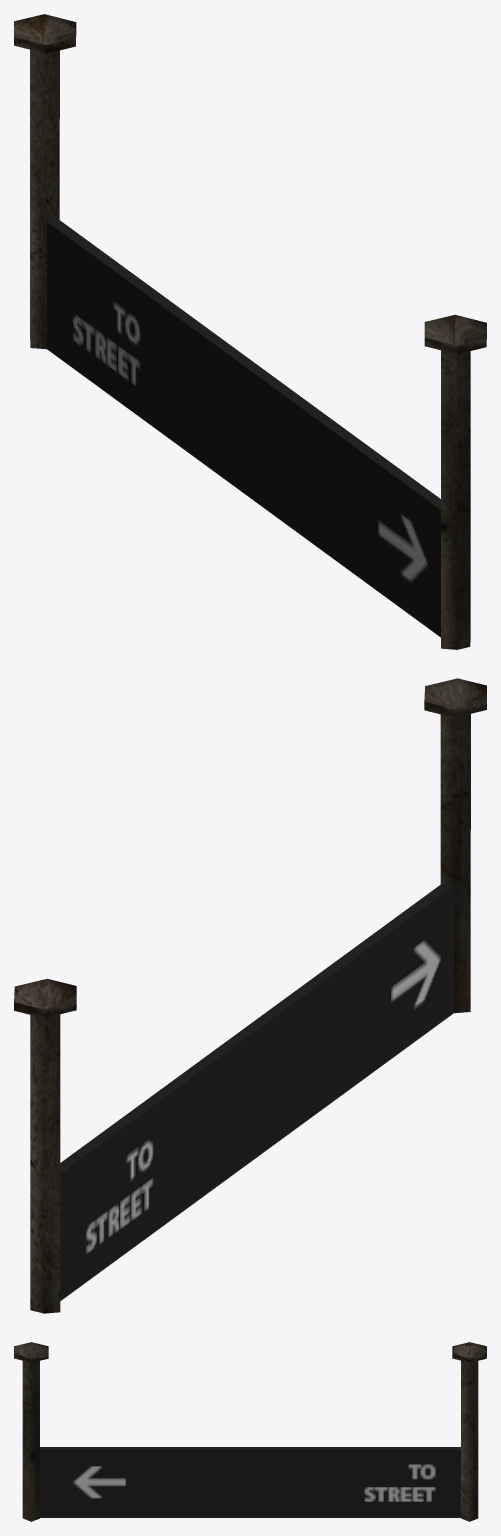
The model's file is StreetBoard.fbx.
The picture shows the model from 3 angles, top to bottom: view 1: azimuth 30°, elevation 25°; view 2: azimuth 150°, elevation 25°; view 3: azimuth 270°, elevation 25°; orthographic projection. The views are drawn at different scales.
Parts seen in each view (by area): view 1: StreetBoard; view 2: StreetBoard; view 3: StreetBoard.
Part boxes in pixels (<box>): StreetBoard: <box>14,14,486,649</box>; StreetBoard: <box>14,678,486,1313</box>; StreetBoard: <box>14,1342,486,1521</box>.
Bounding box in the file's own units: 18.93 × 91.75 × 234.
